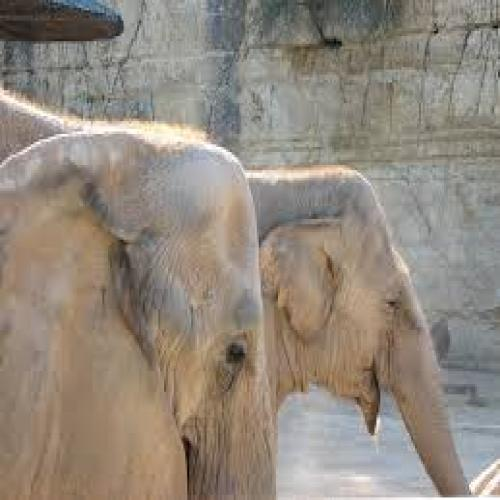asian_elephant-endangered: (0, 125, 280, 500), (240, 161, 476, 500)
